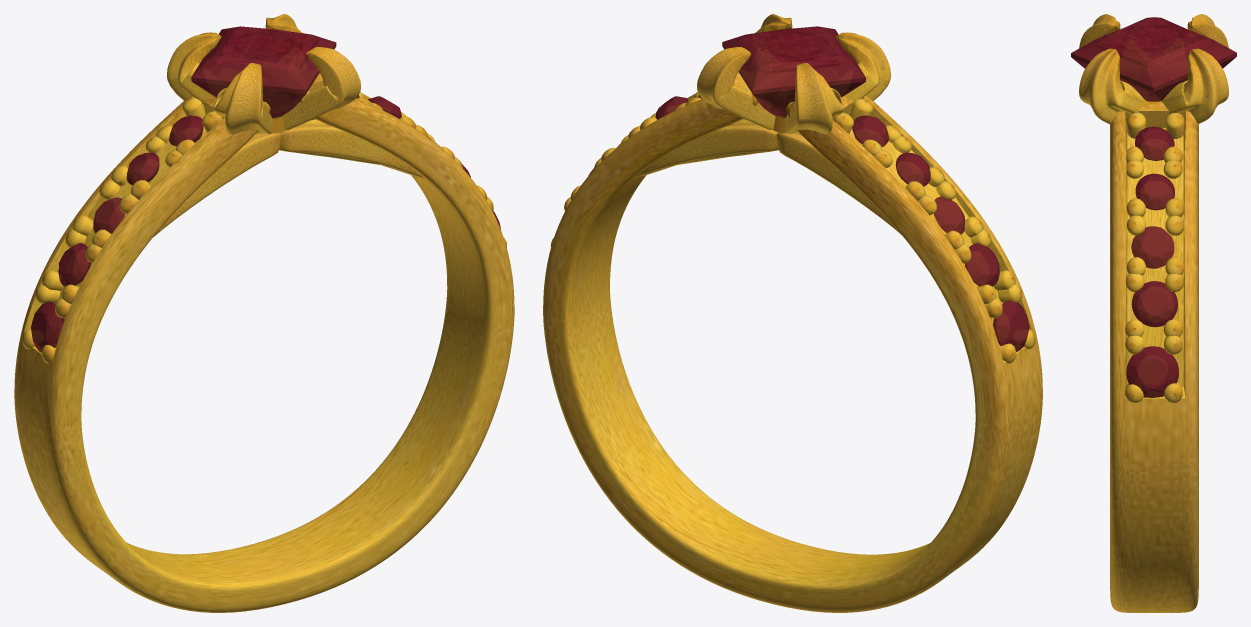
File: numa_oro_ruby.glb
3 renders of one model, left to right at view 1: azimuth 30°, elevation 25°; view 2: azimuth 150°, elevation 25°; view 3: azimuth 270°, elevation 25°, orthographic.
Parts seen in each view (by area): view 1: Centro, BezierCurve.011, Princess.003, Grifa.001, BezierCurve.003, DIAMANT.002; view 2: Centro, BezierCurve.011, Princess.003, Grifa.001, DIAMANT.002, BezierCurve.003; view 3: Centro, BezierCurve.011, DIAMANT.002, Princess.003, Grifa.001.
Part boxes in pixels (x1,y1,x2,y2): Centro: (14, 89, 514, 612); BezierCurve.011: (167, 14, 360, 134); Princess.003: (191, 26, 336, 117); Grifa.001: (22, 92, 506, 363); BezierCurve.003: (153, 119, 423, 237); DIAMANT.002: (31, 95, 500, 352); Centro: (543, 89, 1042, 612); BezierCurve.011: (697, 14, 890, 134); Princess.003: (722, 26, 865, 117); Grifa.001: (550, 92, 1035, 363); DIAMANT.002: (588, 95, 1029, 351); BezierCurve.003: (634, 119, 901, 234); Centro: (1110, 101, 1198, 612); BezierCurve.011: (1079, 14, 1228, 124); DIAMANT.002: (1126, 126, 1178, 397); Princess.003: (1071, 17, 1236, 101); Grifa.001: (1125, 112, 1184, 403).
Bounding box in the file's own units: 20.24 × 22.93 × 6.28.
Materials: 2 (2 with a texture image).
